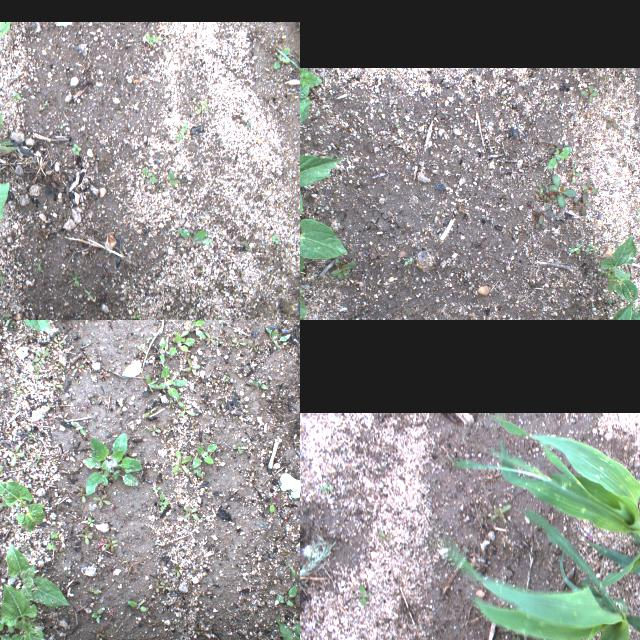crop: (456, 414, 640, 587), (439, 507, 640, 640), (300, 175, 350, 320), (5, 544, 70, 610), (599, 236, 639, 302), (0, 583, 46, 640), (0, 478, 45, 531), (276, 569, 300, 640), (300, 68, 322, 143), (300, 148, 343, 185), (578, 304, 640, 320), (0, 320, 51, 333)
weed: (80, 430, 142, 496), (534, 172, 578, 210), (155, 364, 189, 398), (300, 540, 329, 579), (574, 178, 600, 216), (576, 79, 606, 107), (544, 142, 574, 170), (168, 329, 196, 358), (530, 202, 558, 228), (177, 228, 216, 246), (191, 444, 217, 468), (329, 259, 358, 279), (275, 582, 297, 608), (600, 110, 628, 130), (568, 162, 588, 188), (266, 326, 292, 346), (570, 240, 600, 256), (273, 45, 291, 69), (172, 450, 190, 474), (7, 444, 25, 466), (157, 336, 170, 364), (357, 582, 371, 606), (0, 618, 15, 640), (70, 420, 88, 438), (177, 399, 196, 416), (160, 170, 180, 186), (127, 598, 147, 614), (43, 531, 59, 551), (188, 320, 207, 336), (31, 348, 50, 364), (174, 122, 190, 140), (138, 168, 158, 182), (146, 372, 160, 392), (182, 506, 202, 520), (78, 528, 94, 544), (104, 536, 118, 554), (491, 505, 509, 519), (69, 271, 83, 287), (146, 31, 162, 45), (400, 253, 414, 269), (156, 494, 170, 510), (93, 494, 111, 506), (317, 483, 335, 495), (0, 496, 9, 516), (544, 93, 556, 107), (248, 340, 260, 354), (205, 330, 217, 344), (252, 380, 268, 390), (92, 608, 102, 624), (33, 258, 43, 272), (72, 142, 82, 156), (76, 490, 90, 500), (375, 530, 389, 540), (232, 337, 248, 345), (84, 288, 92, 302), (271, 234, 279, 244), (130, 313, 141, 320), (635, 203, 640, 216), (14, 90, 20, 100)
